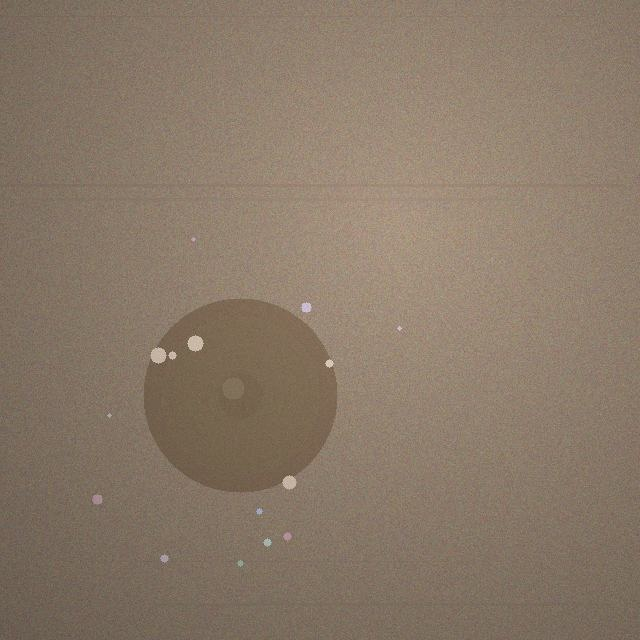overburn: (143, 298, 337, 492)
